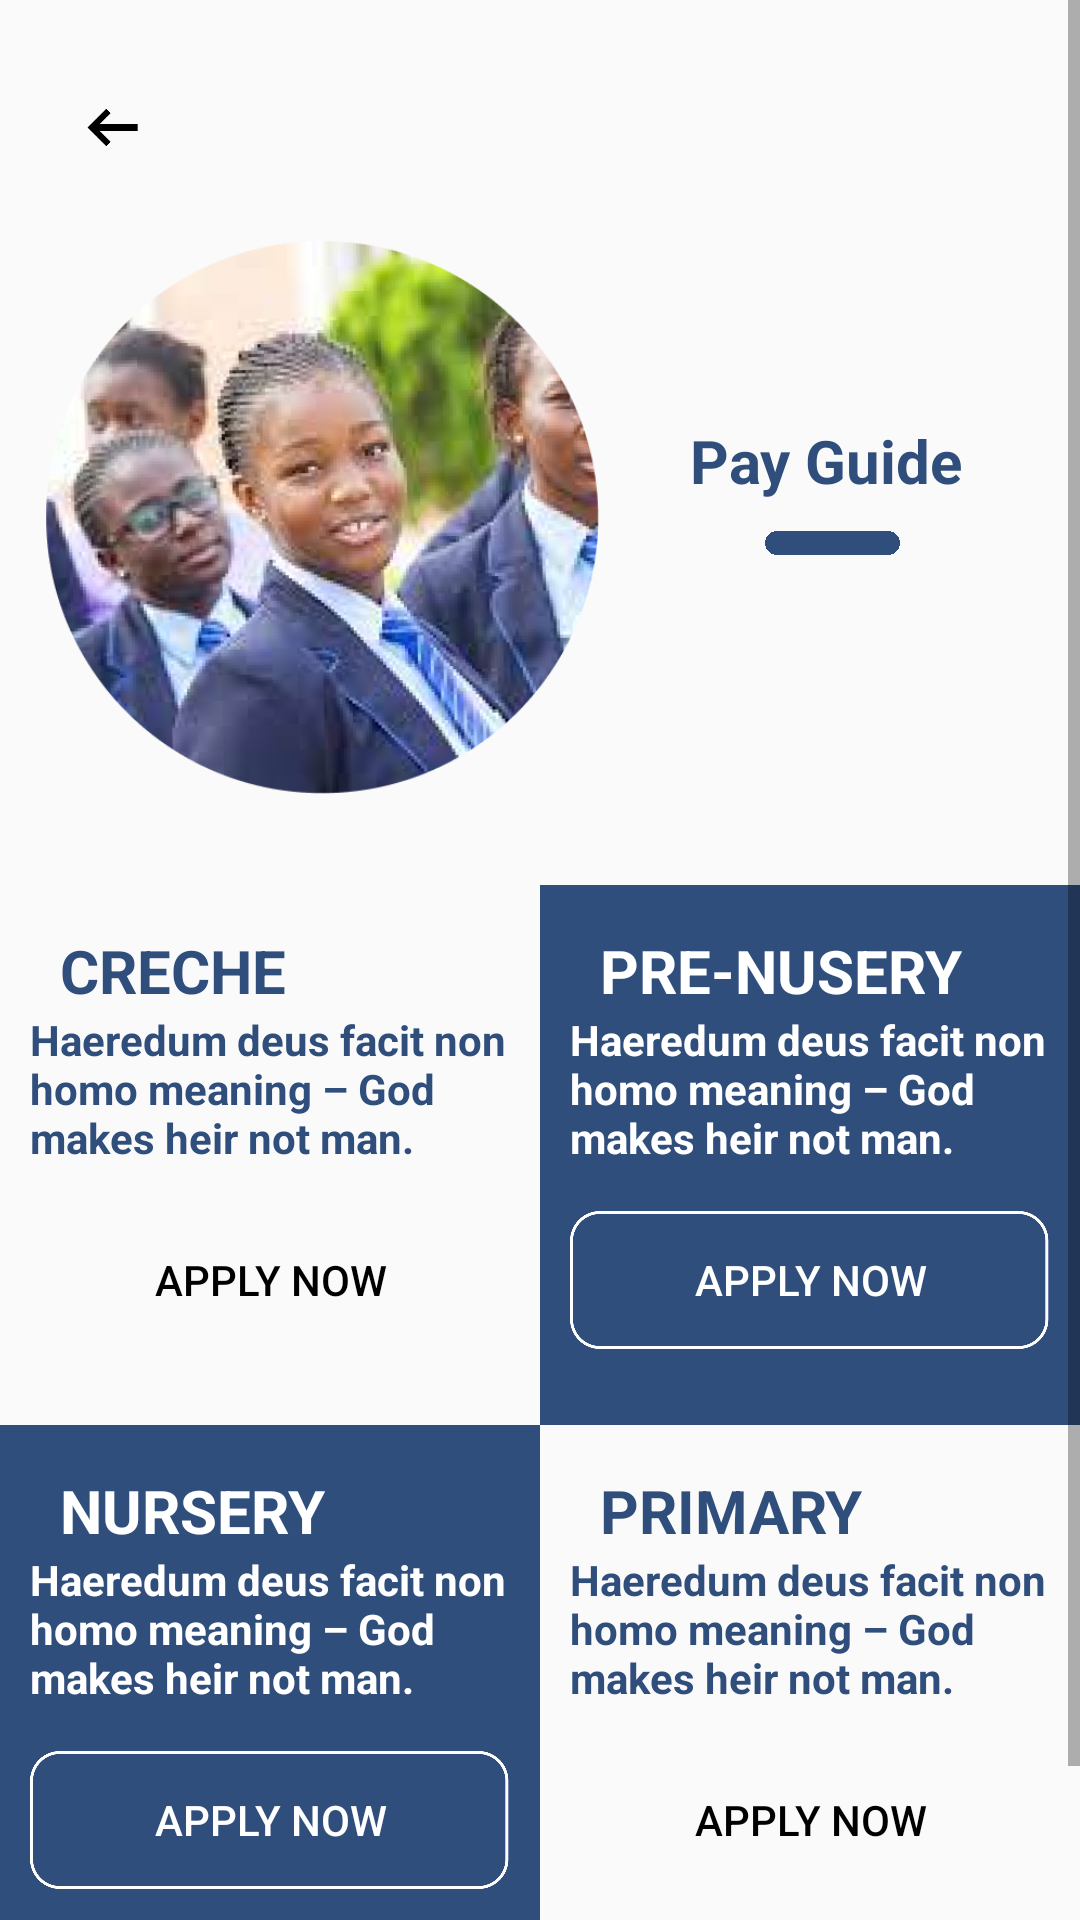

Named icons in this screenshot (1080px×1920px) and their centers, (x=x, y=y):
back payguide: (x=112, y=127)
